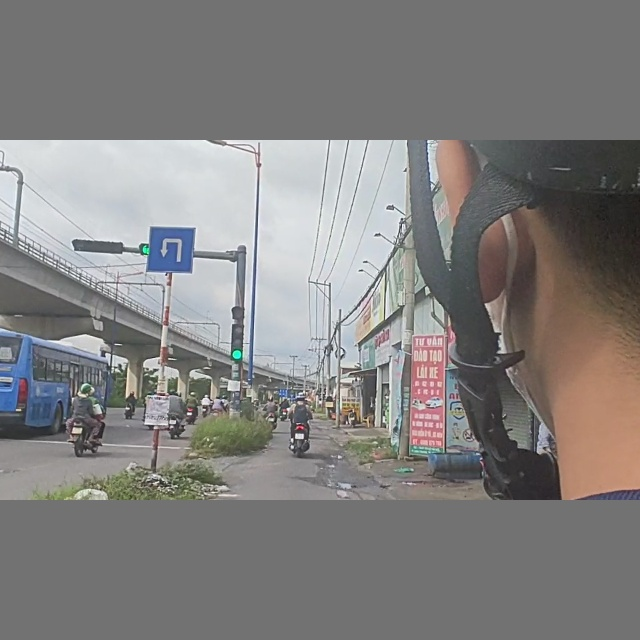I.409: (147, 221, 204, 282)
